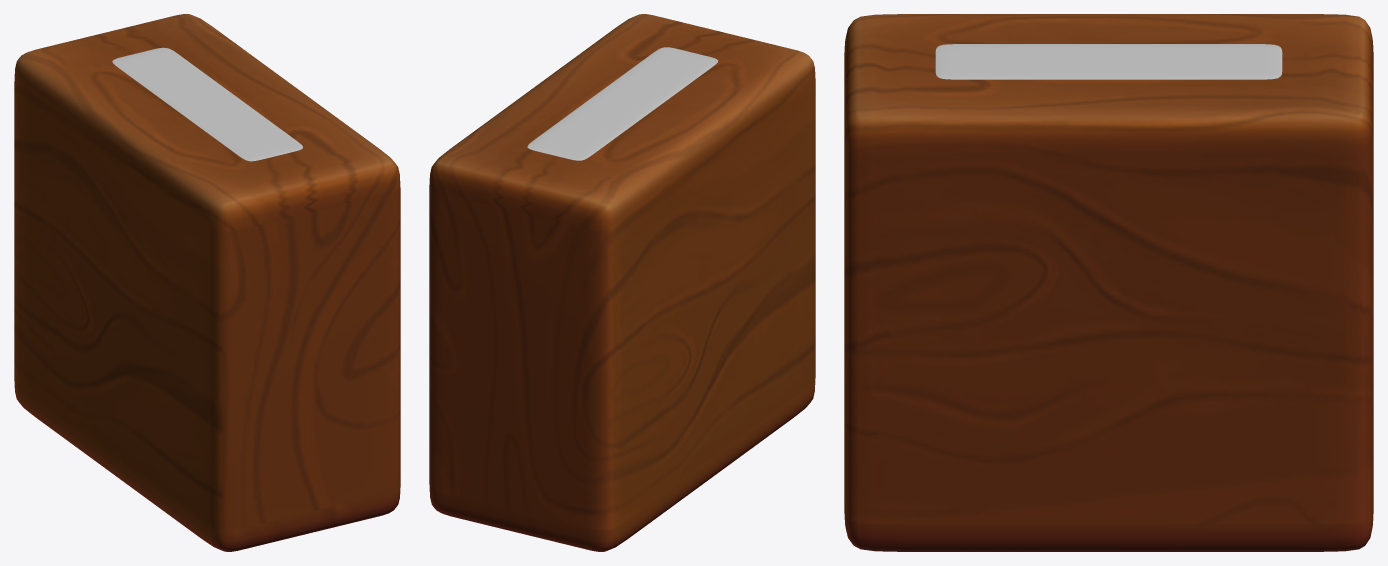
Rendered from wall_2_2.fbx.
3 renders of one model, left to right at view 1: azimuth 30°, elevation 25°; view 2: azimuth 150°, elevation 25°; view 3: azimuth 270°, elevation 25°, orthographic. The views are drawn at different scales.
Visible parts, largest first — view 1: wall_2, lego_point3; view 2: wall_2, lego_point3; view 3: wall_2, lego_point3.
Part boxes in pixels (left/top/right/bottom): wall_2: left=14, top=14, right=400, bottom=551; lego_point3: left=112, top=47, right=302, bottom=161; wall_2: left=429, top=14, right=815, bottom=551; lego_point3: left=527, top=47, right=718, bottom=160; wall_2: left=844, top=14, right=1373, bottom=551; lego_point3: left=935, top=44, right=1282, bottom=79.
Size of the model in its own units: 1.02 by 1.86 by 2.02.
